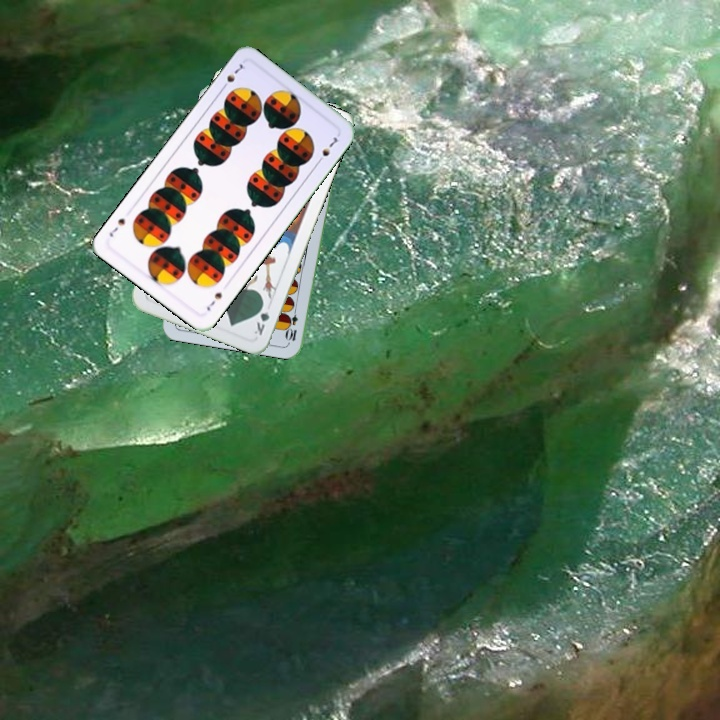E10: (284, 303, 301, 343)
GK: (250, 298, 272, 338)
S7: (217, 60, 248, 93), (202, 288, 225, 314)
